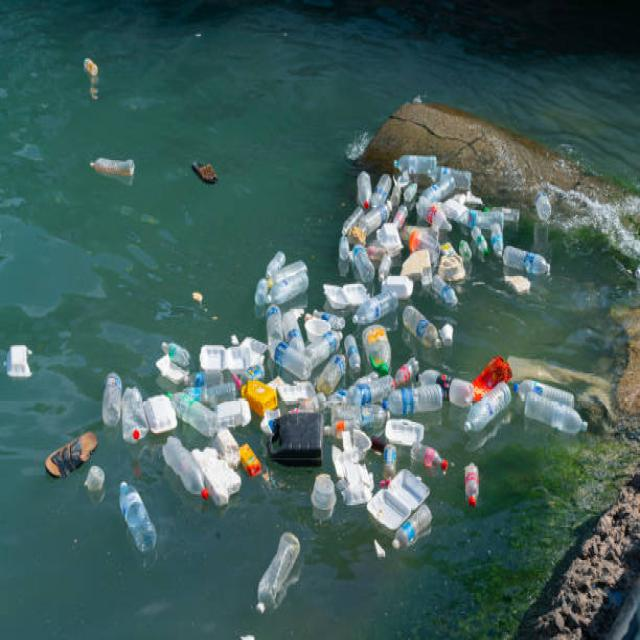garbage: (96, 326, 494, 513), (332, 151, 553, 307), (238, 524, 311, 624), (86, 141, 143, 197), (4, 334, 42, 390)
